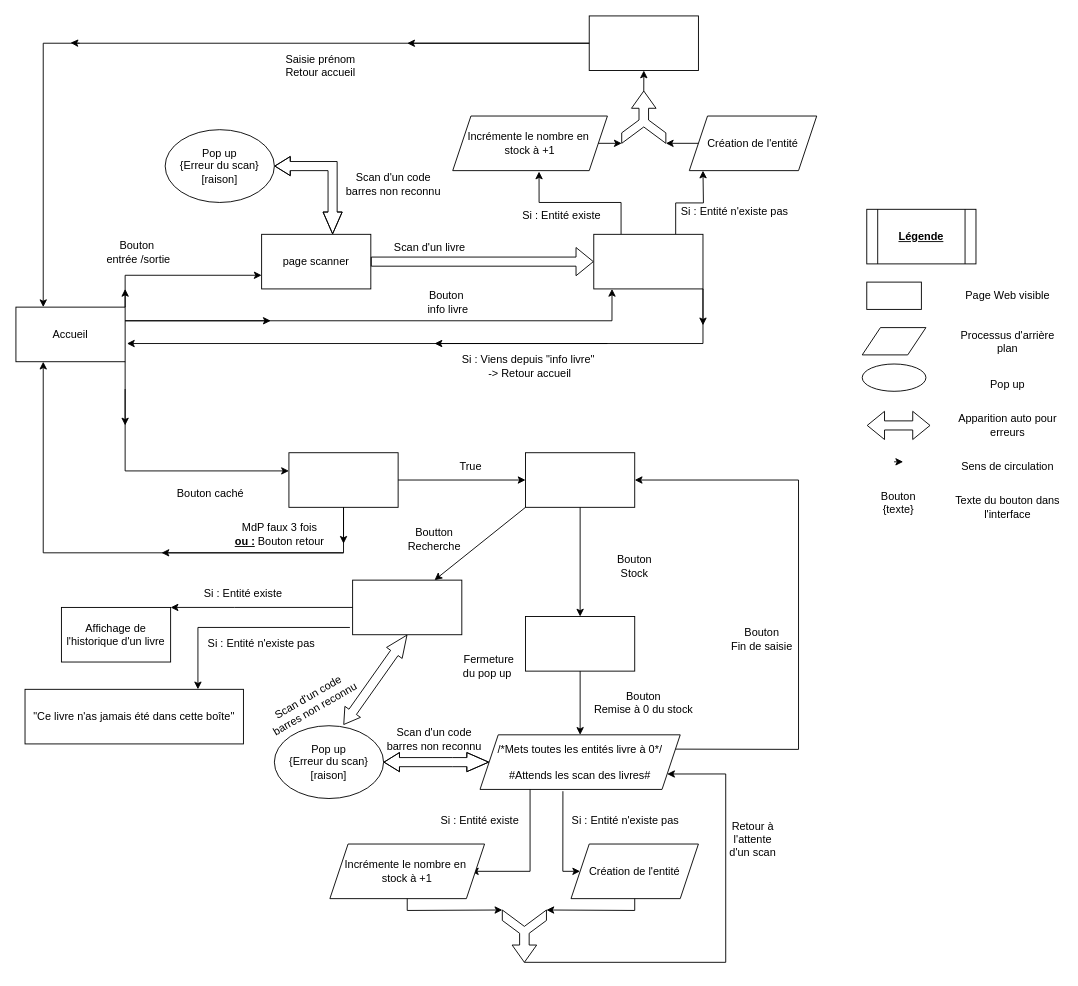
Some shapes in this 1078 by 986 pixel diagram are drawn without their labels. Here are the shapes that lost their labels. From the top down, the centre of each, then its label:
At pixel 643 43: "Page demande de nom/prenom".
At pixel 648 261: "Information du livre Affichage du bouton de confirmation".
At pixel 343 479: "Login admin".
At pixel 580 479: "Accueil admin Affichage historique".
At pixel 407 607: "Page scanner / recherche par nom".
At pixel 580 643: "Page de la liste des livres actuel".
